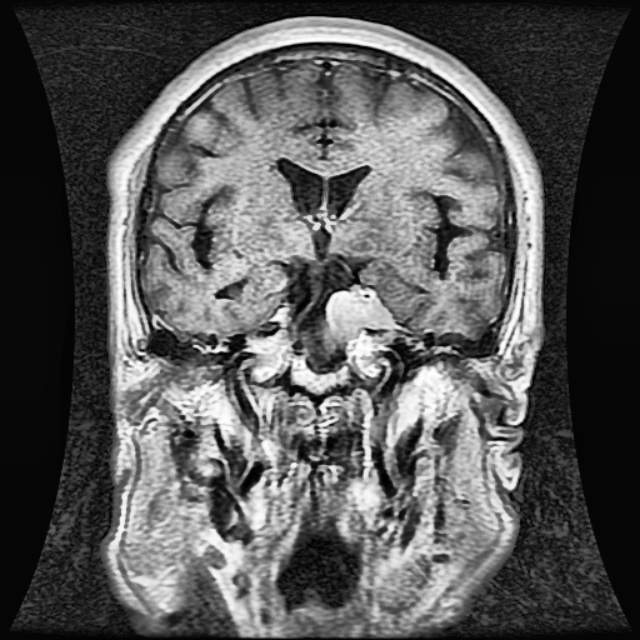Glioma: (327, 283, 394, 345)
